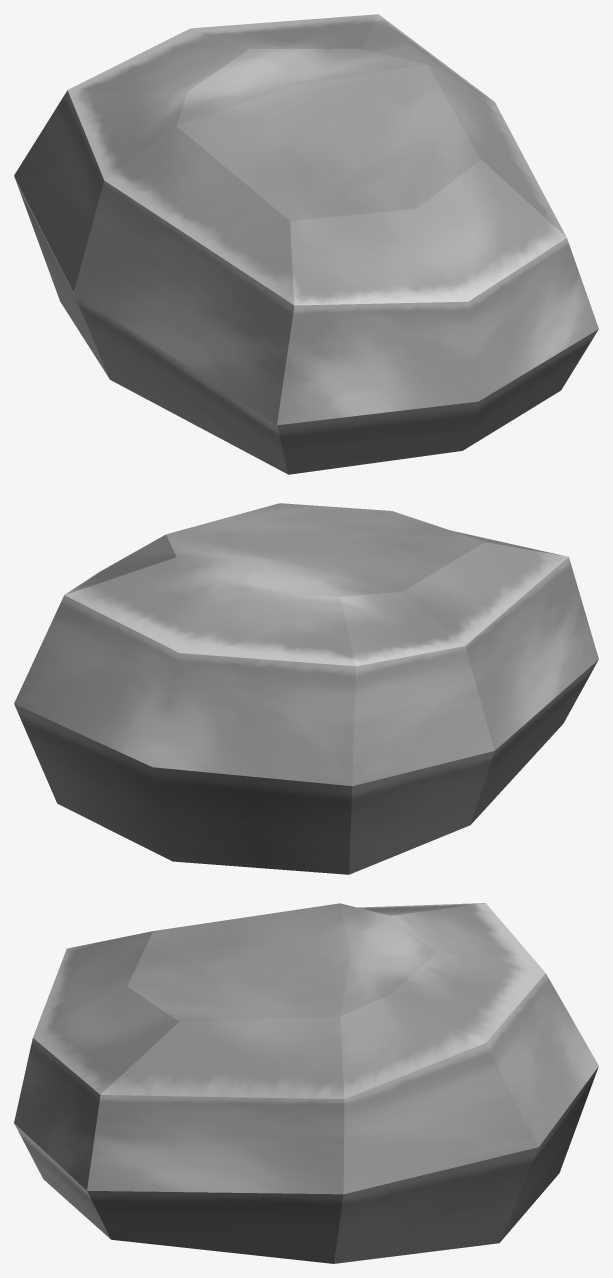
File: stoneTerrain.fbx
The picture shows the model from 3 angles, top to bottom: view 1: azimuth 30°, elevation 25°; view 2: azimuth 150°, elevation 25°; view 3: azimuth 270°, elevation 25°; orthographic projection. The views are drawn at different scales.
Parts seen in each view (by area): view 1: Cube; view 2: Cube; view 3: Cube.
Part boxes in pixels (x1=…): Cube: x1=14, y1=14, x2=598, y2=474; Cube: x1=14, y1=503, x2=598, y2=874; Cube: x1=14, y1=903, x2=598, y2=1263.
Bounding box in the file's own units: 142 × 73.57 × 172.
